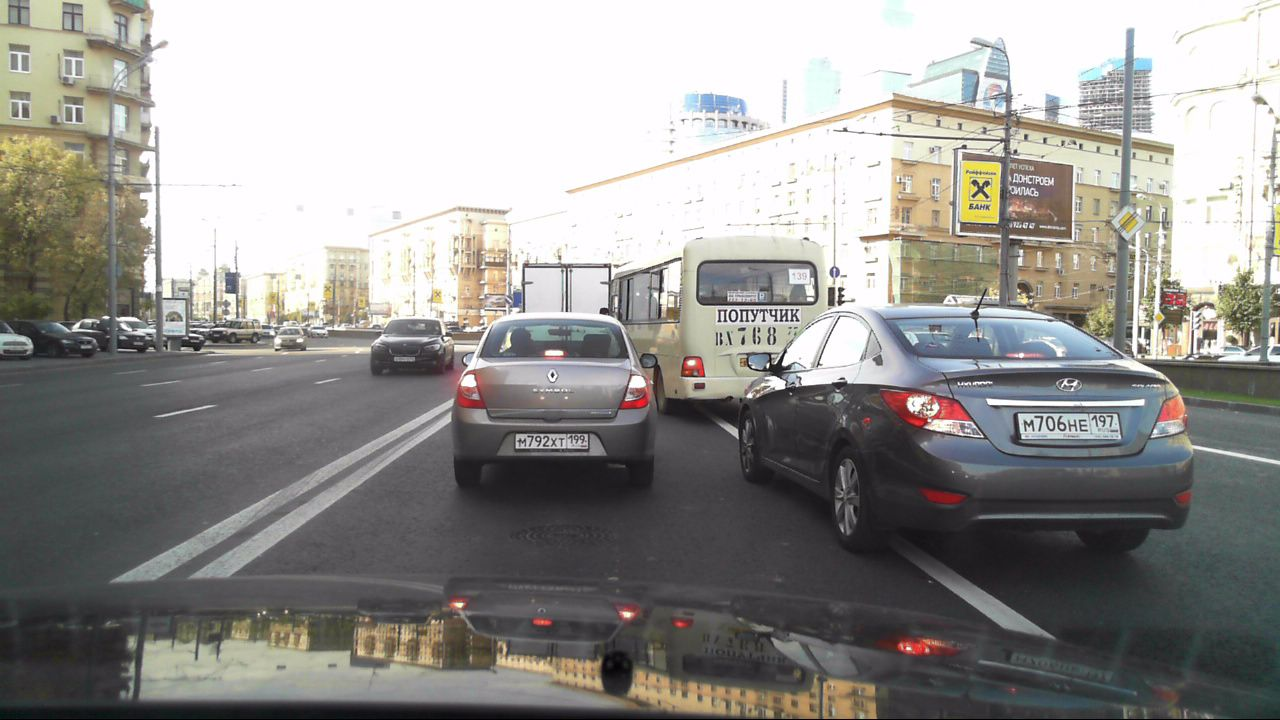main road: (1110, 204, 1146, 242)
